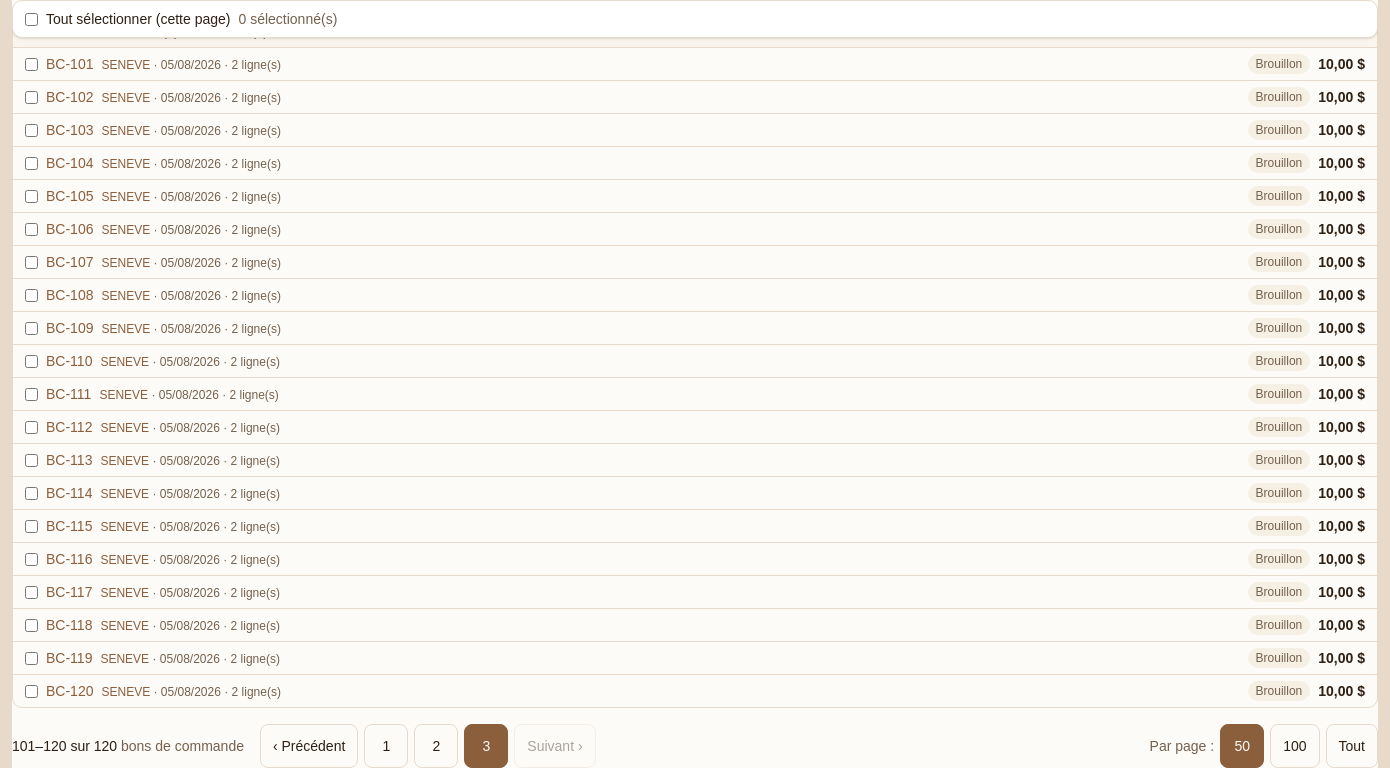
it: Bons de commande paginés › page 3 (101–120) dans l'URL ; Tout : 120 lignes, plus de mention
The image size is (1390, 768).
(page scrolled)
Click the button "Tout".
click(1352, 746)  # box [1326,724,1378,767]
(page scrolled)
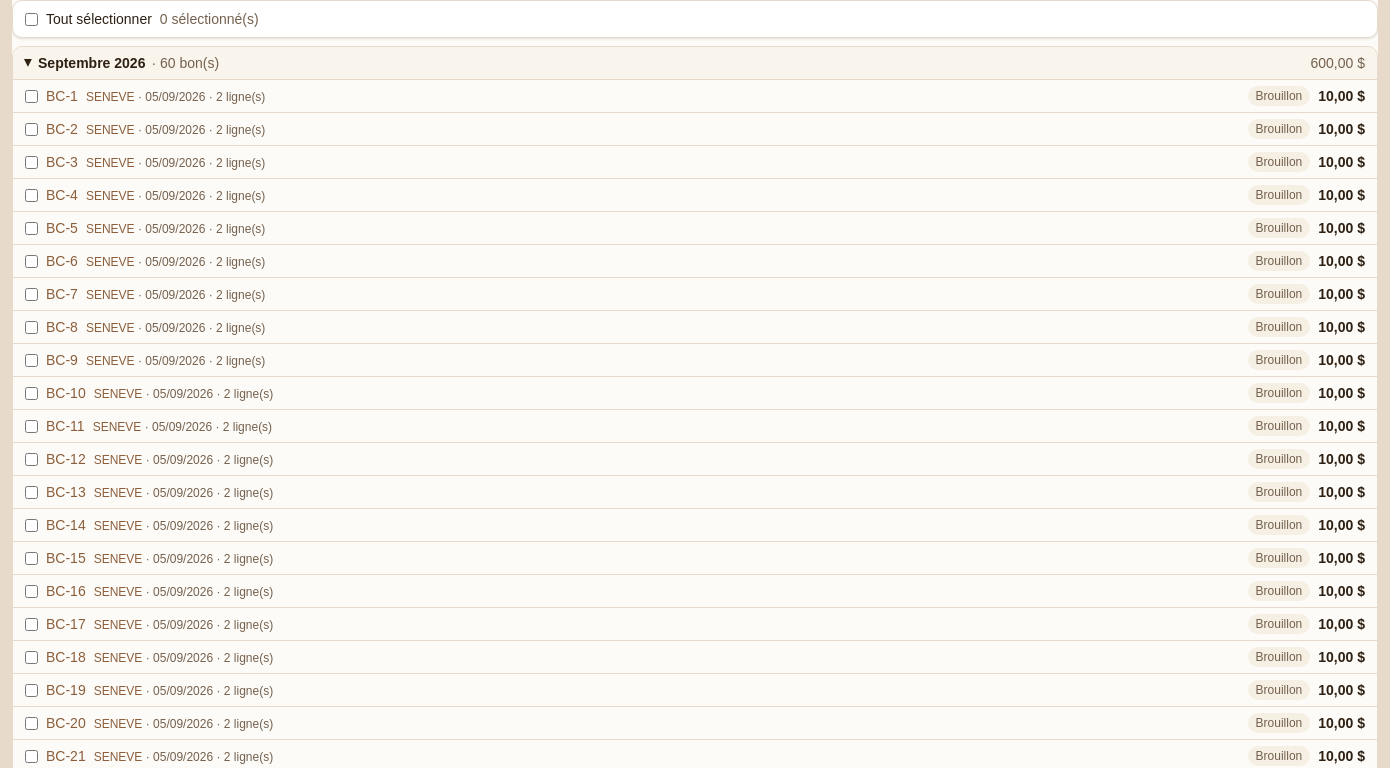
Now the text "affiché(s)" is gone
